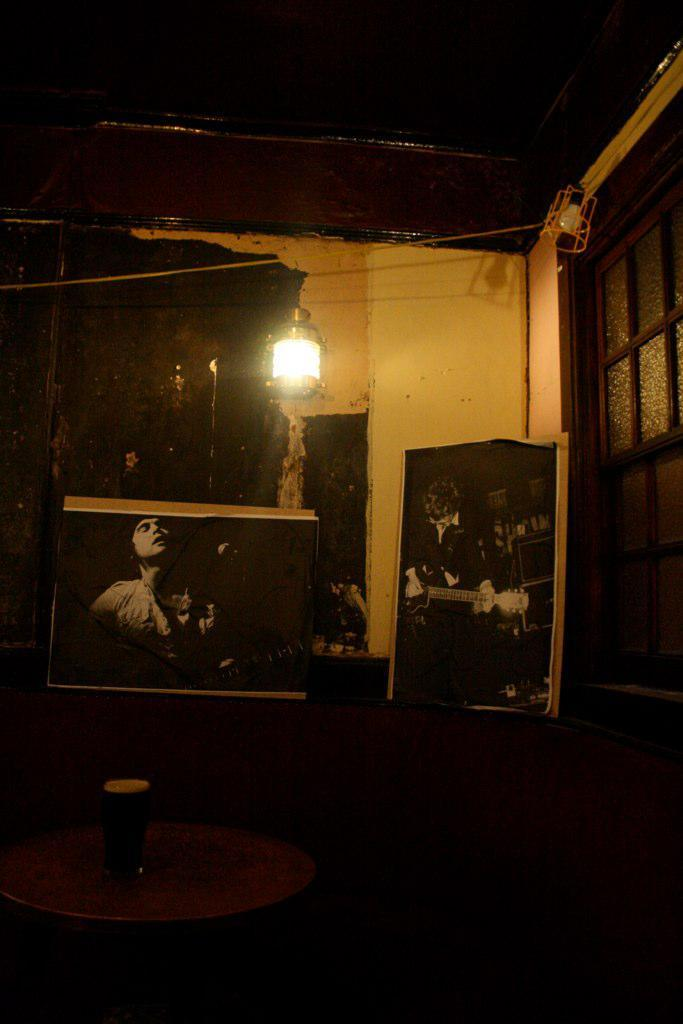Sem Máscara: (130, 516, 173, 560)
